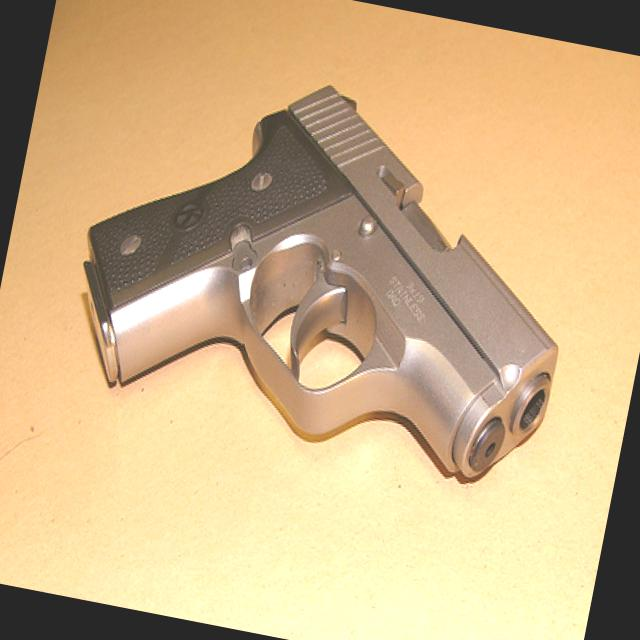handgun: (53, 45, 601, 492)
